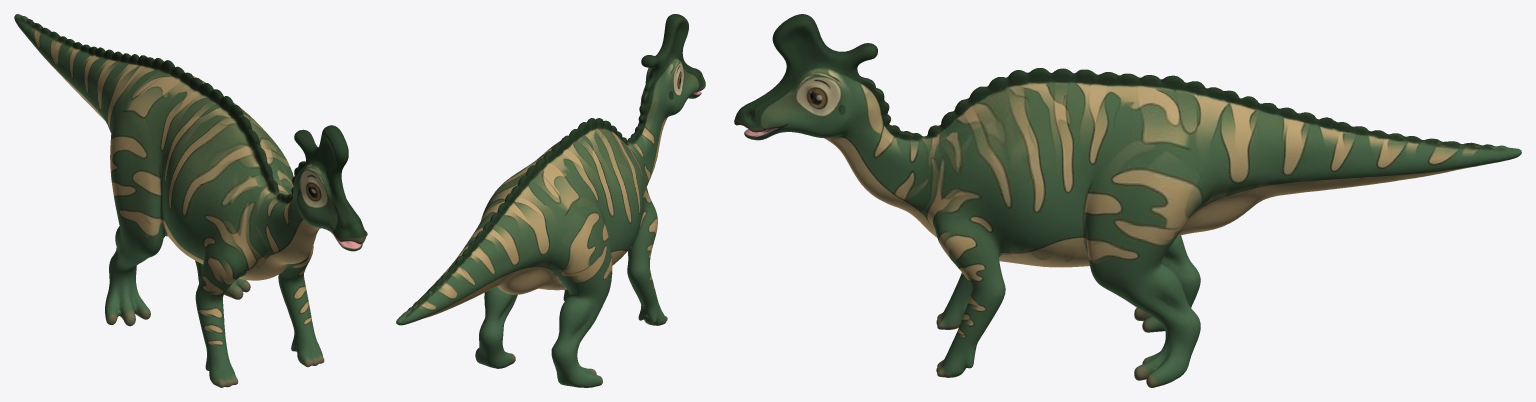
File: L-dino.glb
The picture shows the model from 3 angles, left to right: view 1: azimuth 30°, elevation 25°; view 2: azimuth 150°, elevation 25°; view 3: azimuth 270°, elevation 25°; orthographic projection. The views are drawn at different scales.
Bounding box in the file's own units: 0.4531 × 0.8942 × 1.9.
Materials: 1 (1 with a texture image).
